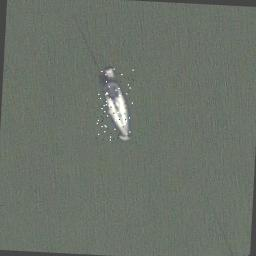boat: (95, 68, 134, 142)
